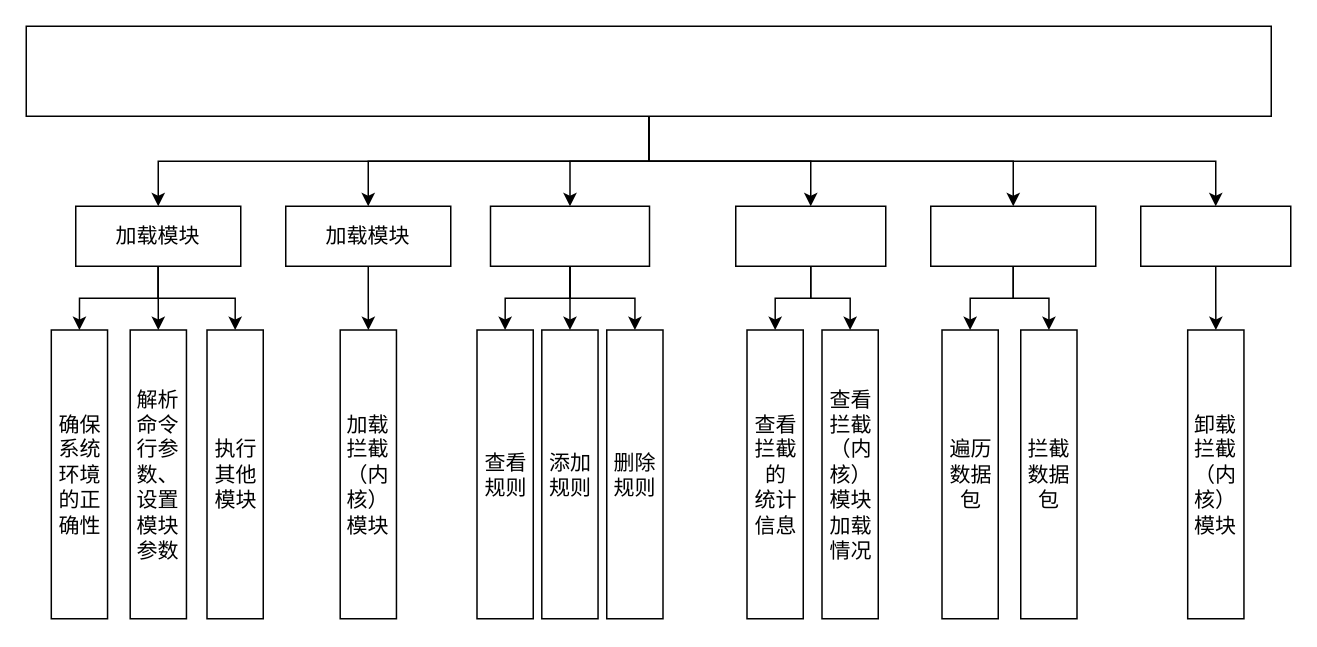
Some shapes in this 1317 by 647 pixel diagram are drawn without their labels. The shapes that lost their labels are listed below. From the top down, each one's box as (x1, y1, x2, y2) in pixels, then its label:
(25, 25, 1271, 116): 基于eBPF的Web应用防火墙
(489, 205, 650, 266): 规则模块
(734, 205, 886, 266): 统计模块
(929, 205, 1096, 266): 拦截（内核） 模块
(1139, 205, 1291, 266): 终止模块
